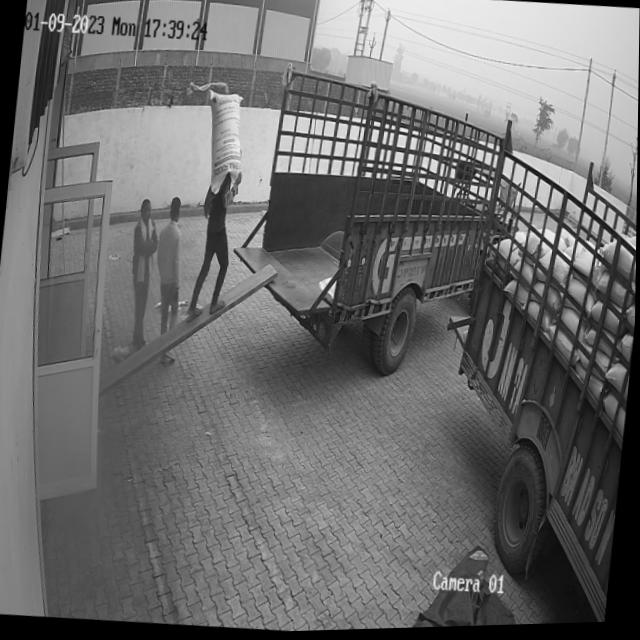sack: (200, 90, 246, 197)
